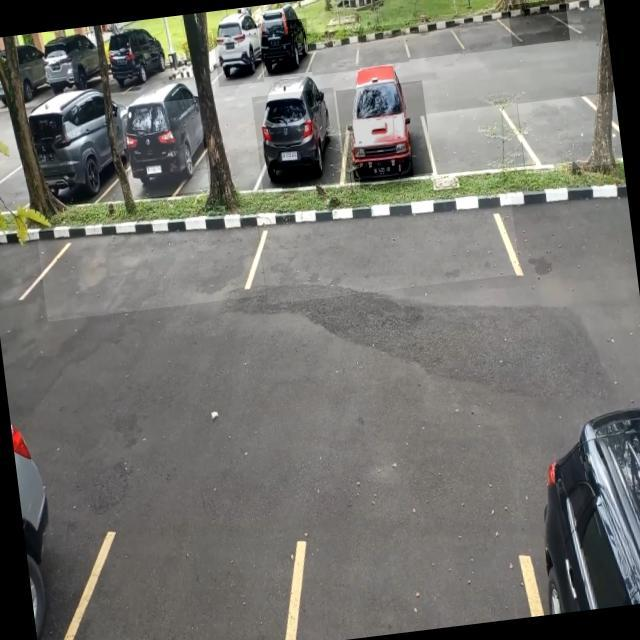empty: (257, 186, 520, 304), (36, 206, 266, 321), (517, 92, 623, 174), (424, 102, 524, 180), (507, 0, 570, 46), (403, 14, 462, 59), (456, 7, 512, 54), (354, 22, 410, 68), (307, 28, 360, 75)
occupied: (335, 80, 433, 183), (252, 87, 344, 191), (120, 97, 210, 199), (257, 18, 312, 78), (212, 24, 263, 86)
